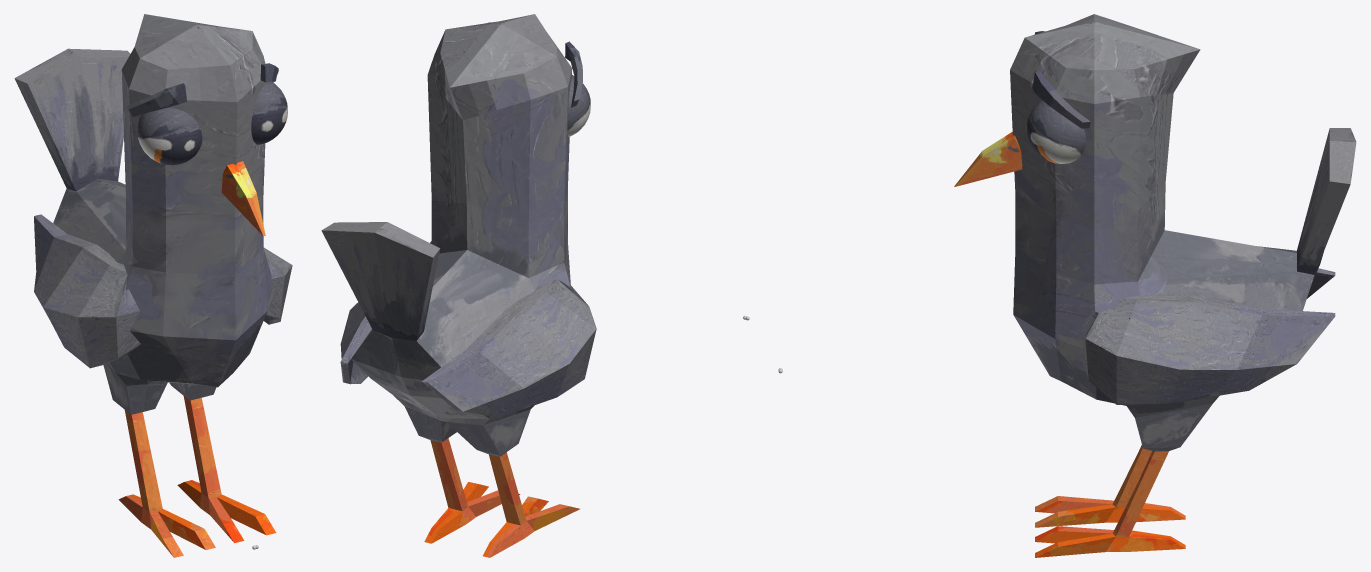
The model's file is Cobble.glb.
3 views of the same model, side by side, from view 1: azimuth 30°, elevation 25°; view 2: azimuth 150°, elevation 25°; view 3: azimuth 270°, elevation 25° (orthographic). The views are drawn at different scales.
Parts seen in each view (by area): view 1: body, R_wing, R_eyeball, L_eyeball, Mount, L_wing, R_eyebrow; view 2: body, R_wing, L_wing, R_eyeball, R_eyebrow; view 3: body, L_wing, L_eyeball, Mount, L_eyebrow.
Part boxes in pixels (x1,y1,x2,y2): body: (14,14,276,557); R_wing: (34,214,140,368); R_eyeball: (137,108,202,165); L_eyeball: (251,81,287,144); Mount: (221,161,265,236); L_wing: (263,247,292,324); R_eyebrow: (126,83,186,116); body: (321,14,579,557); R_wing: (422,279,596,417); L_wing: (340,302,371,384); R_eyeball: (567,75,590,136); R_eyebrow: (565,41,582,107); body: (1010,14,1356,557); L_wing: (1080,294,1335,404); L_eyeball: (1026,100,1086,163); Mount: (954,131,1022,186); L_eyebrow: (1032,71,1090,128).
Bounding box in the file's own units: 0.4893 × 1.05 × 1.08.
Materials: 10 (10 with a texture image).
